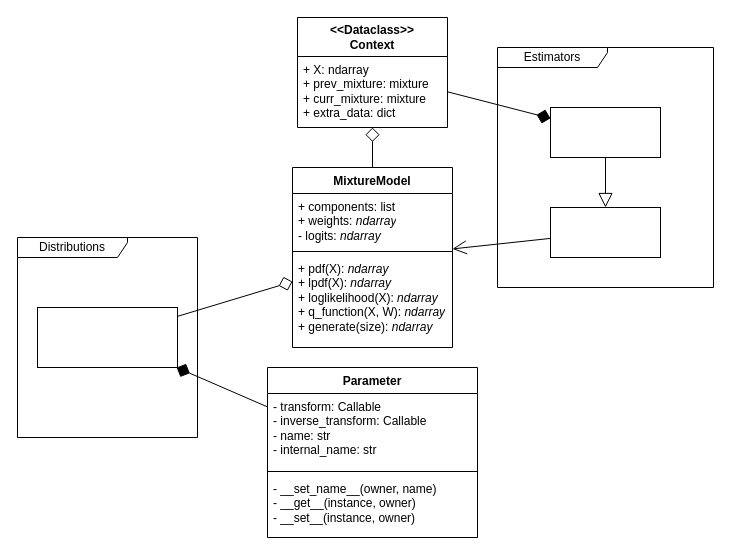
Image size: 731x558. Some labels were removed from this diagram. Here are the shapes that lost their labels. From the top down, the centre of each, then its label:
At (605,132): "IterativeEstimator".
At (605,232): "BaseEstimator".
At (107,337): "ContinuousDistribution".
